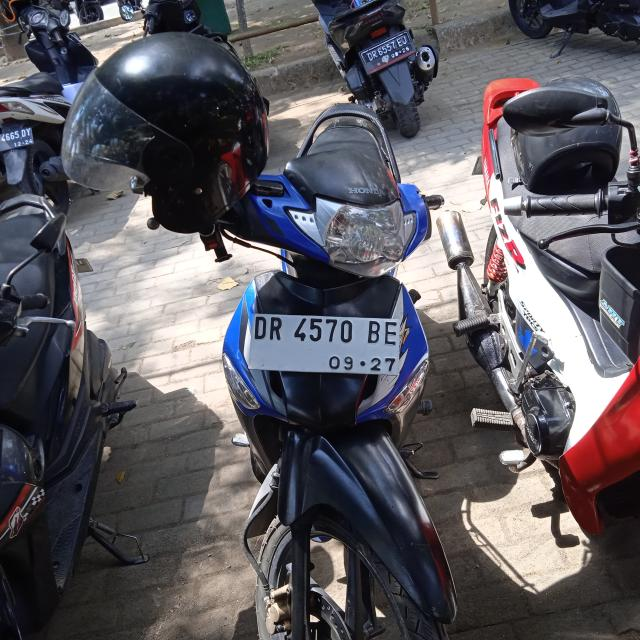plate: (250, 310, 403, 378), (358, 30, 417, 76), (0, 127, 35, 152)
